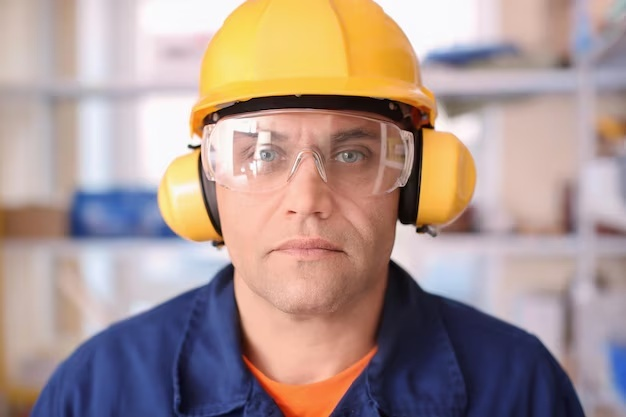safety_goggles: (153, 112, 456, 204)
